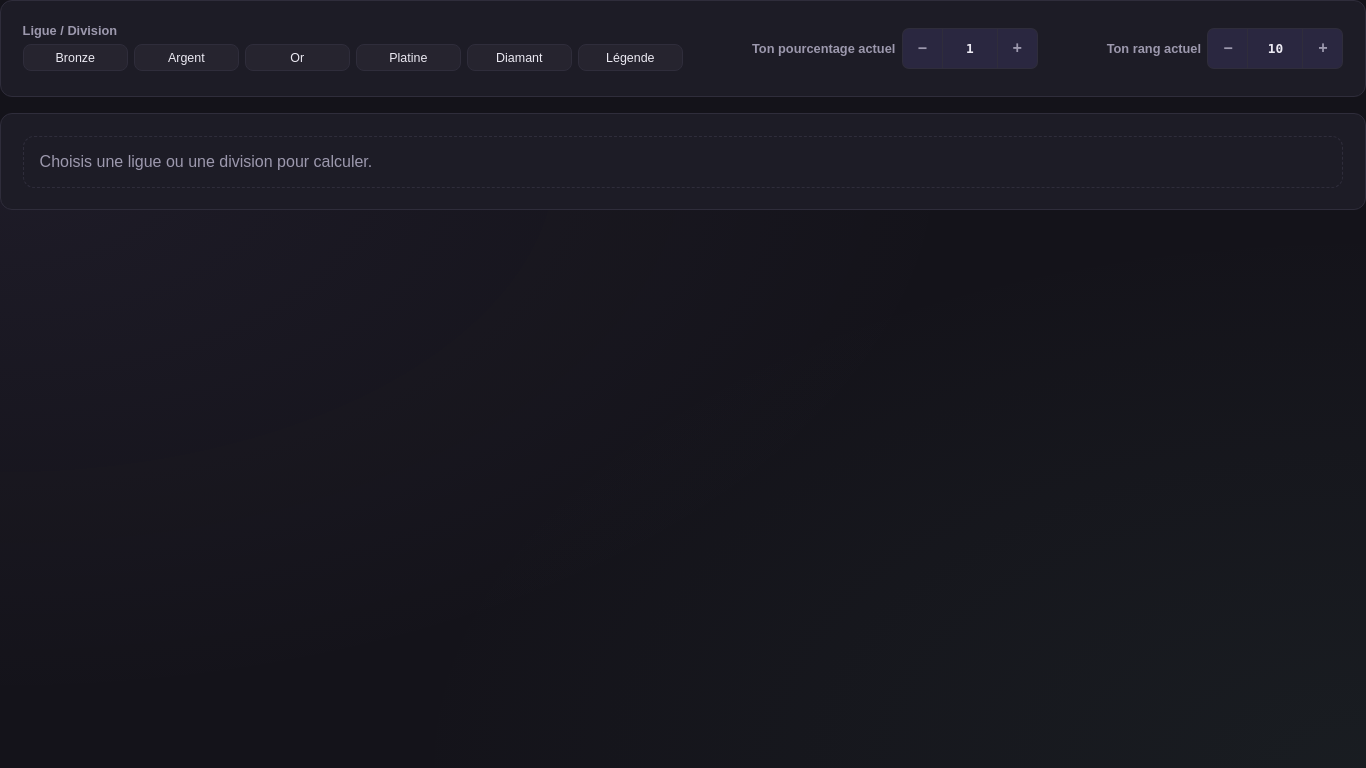
RankingCalculator › handles a zero percentage without dividing by zero
The image size is (1366, 768).
Click the button "Diamant". click: (519, 58)
box: [467,44,572,71]
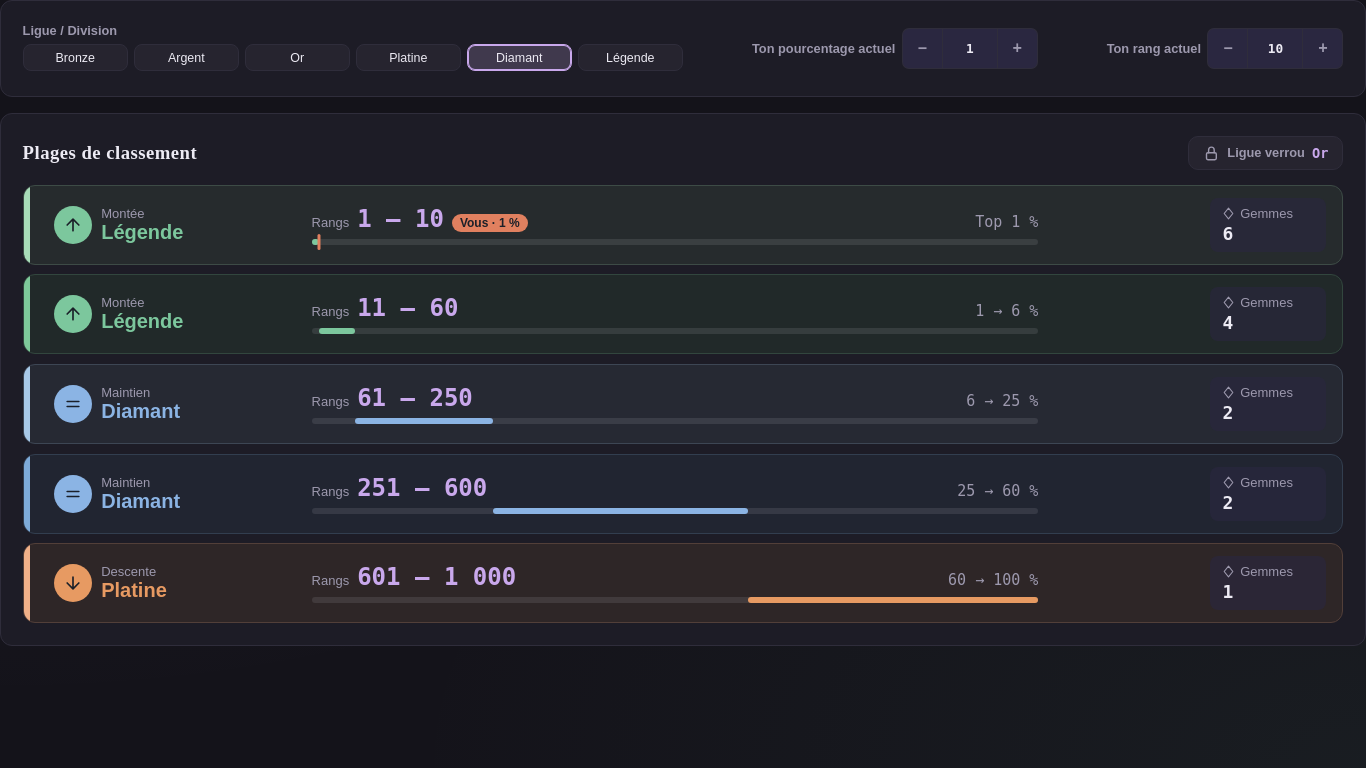
Replace the text in the number field named "Ton pourcentage actuel" with "0". click: (970, 48)
box: [942,28,998,69]
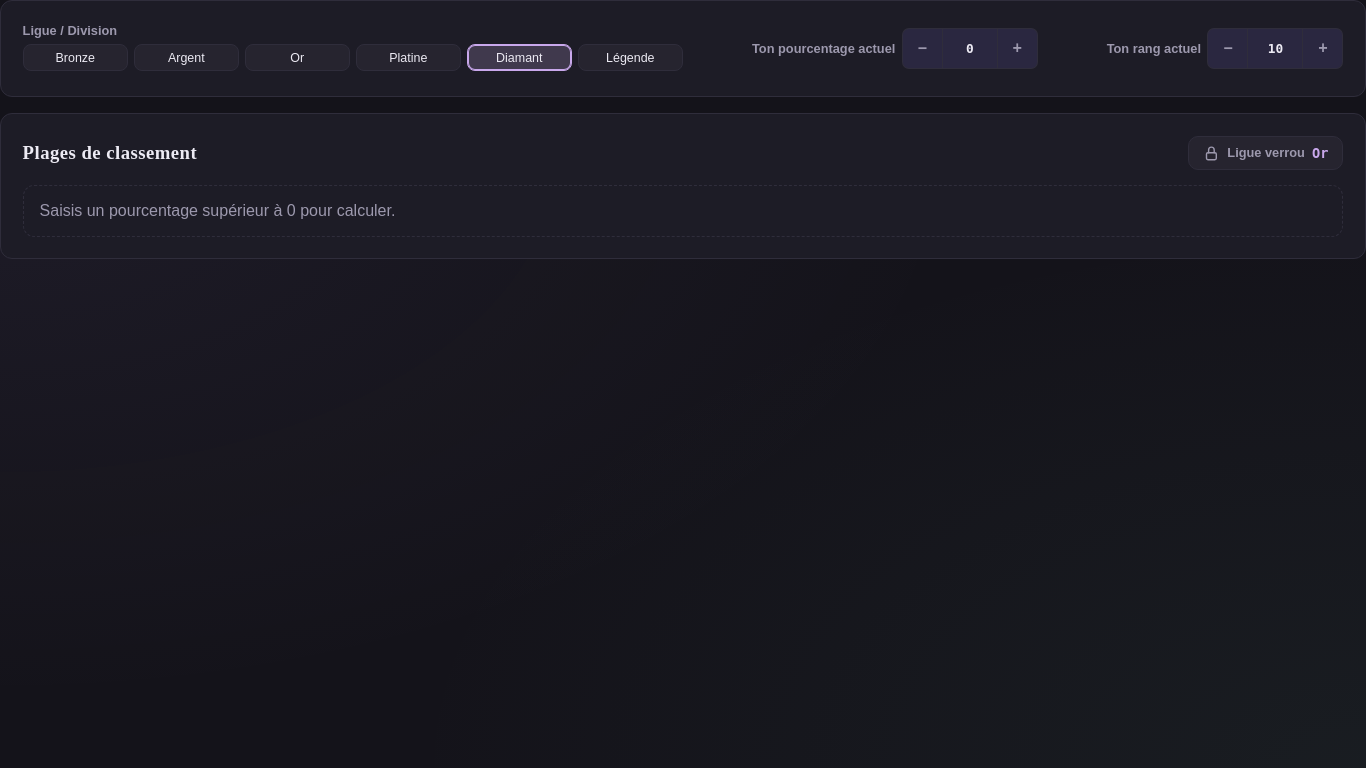
Expected: the text "Saisis un pourcentage supérieur à 0 pour calculer." is shown, [23,185,1343,237]
